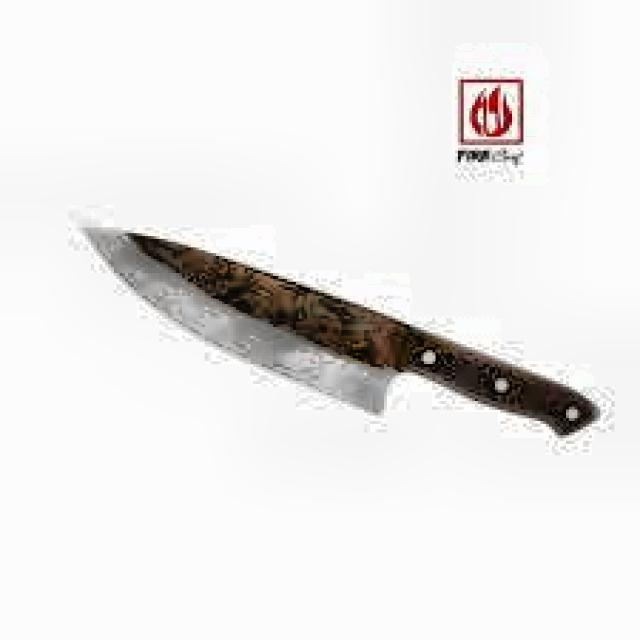knife: (86, 230, 602, 438)
